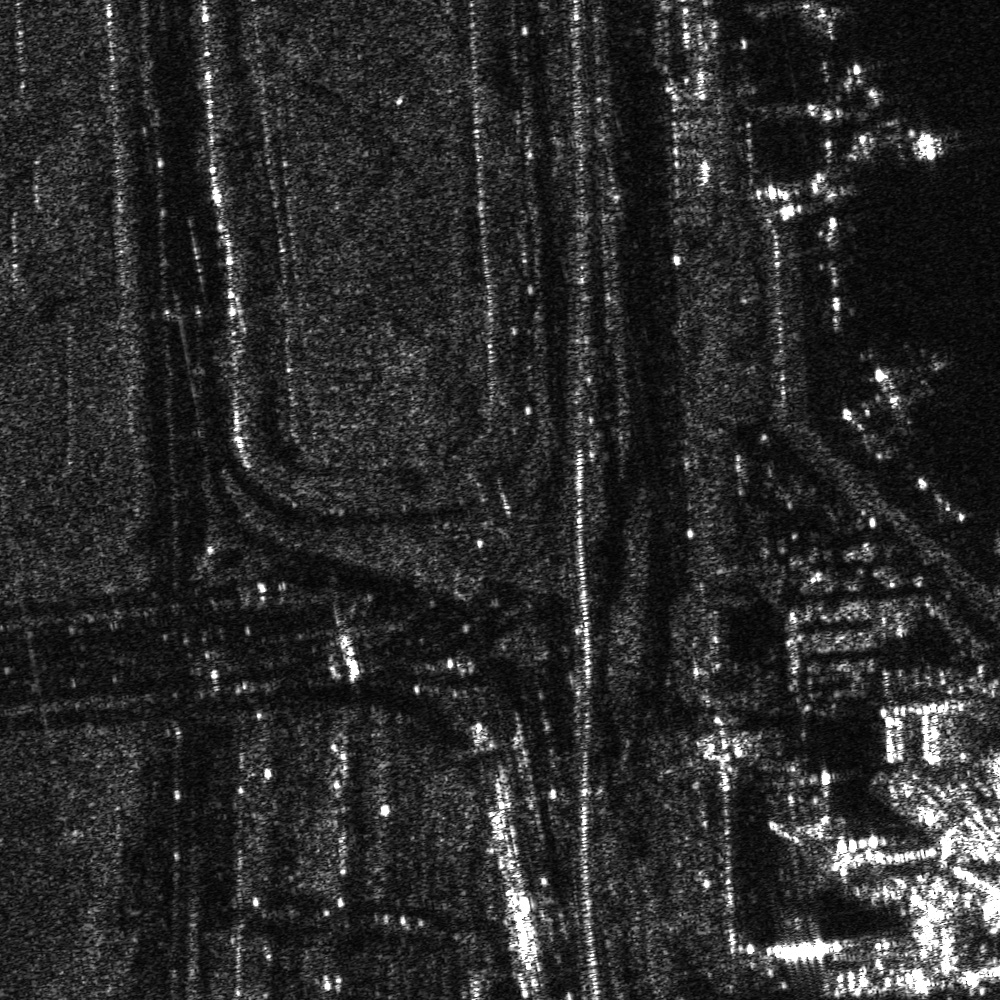A220: (851, 339, 955, 430)
A320/321: (824, 83, 952, 170)
